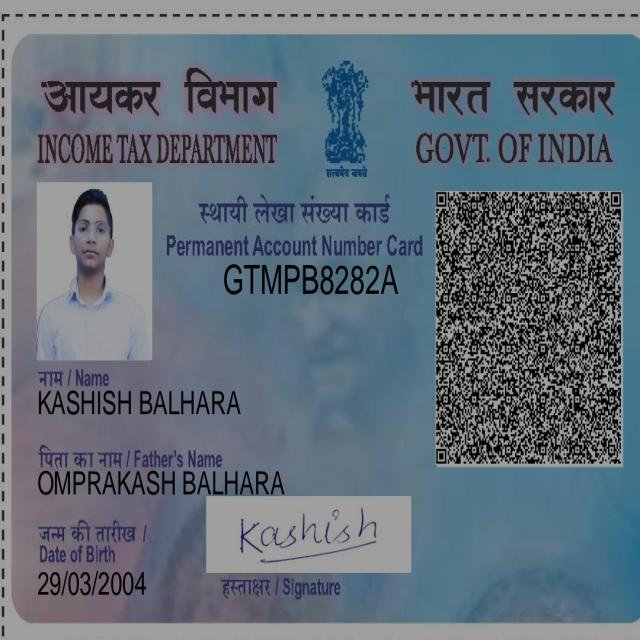pan_card: (17, 36, 639, 620)
